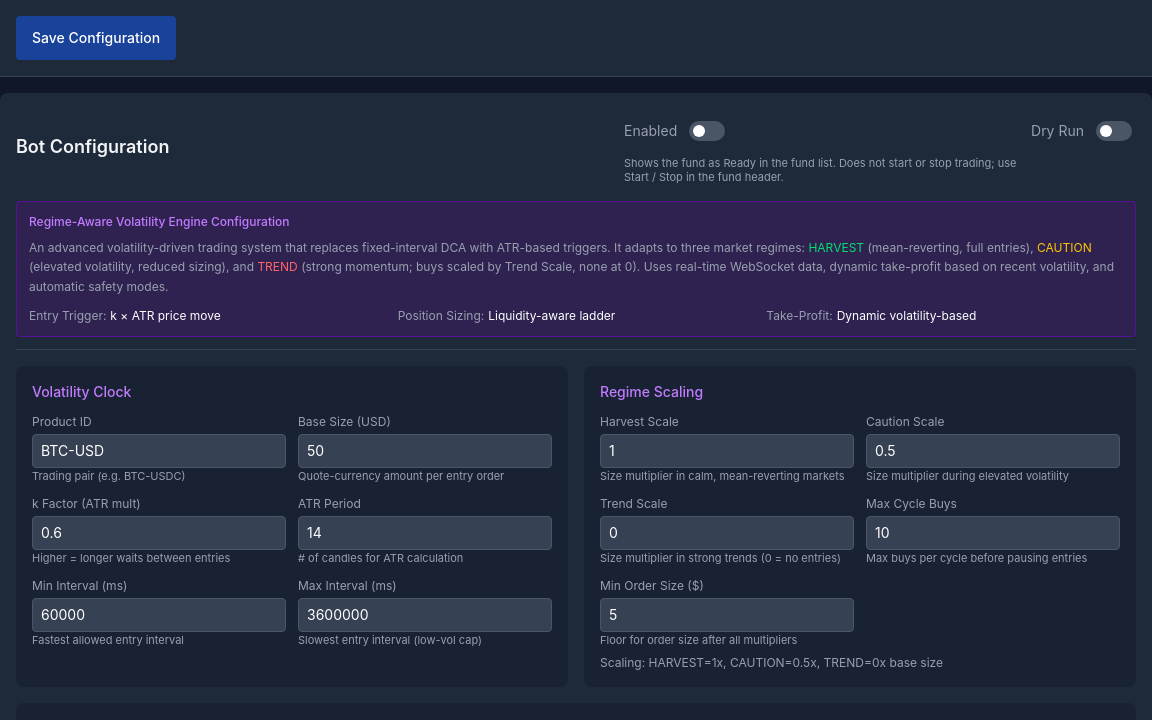
Scenario: config save response handling › keeps saved state and refreshes after persisted-not-applied toggle
What coordinates should you click on to do the following:
click the switch named "Enabled" next to "Enabled"
I would click on:
 (707, 131)
Its box is [685,109,729,153].
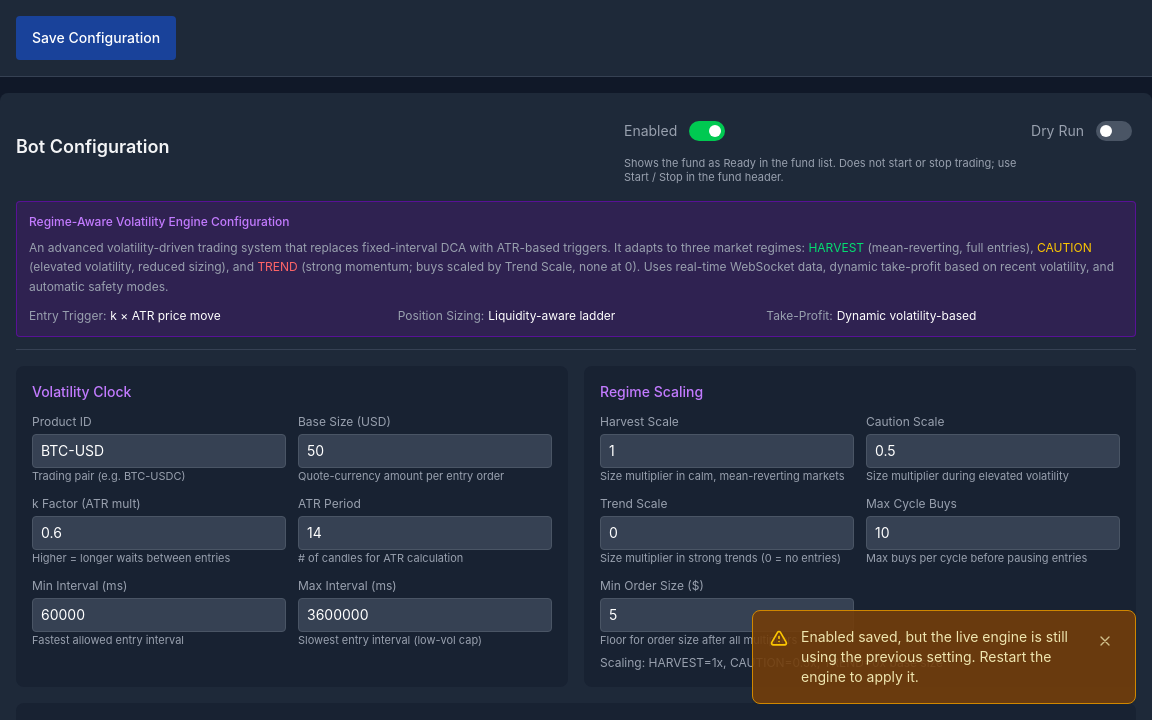
Result: the text "Restart the engine to apply it" is shown at [801,628,1068,685]
